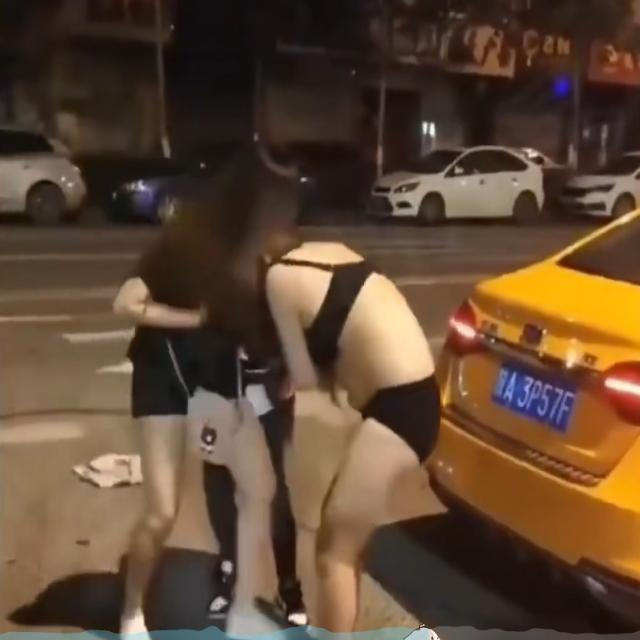fight: (108, 138, 451, 526)
